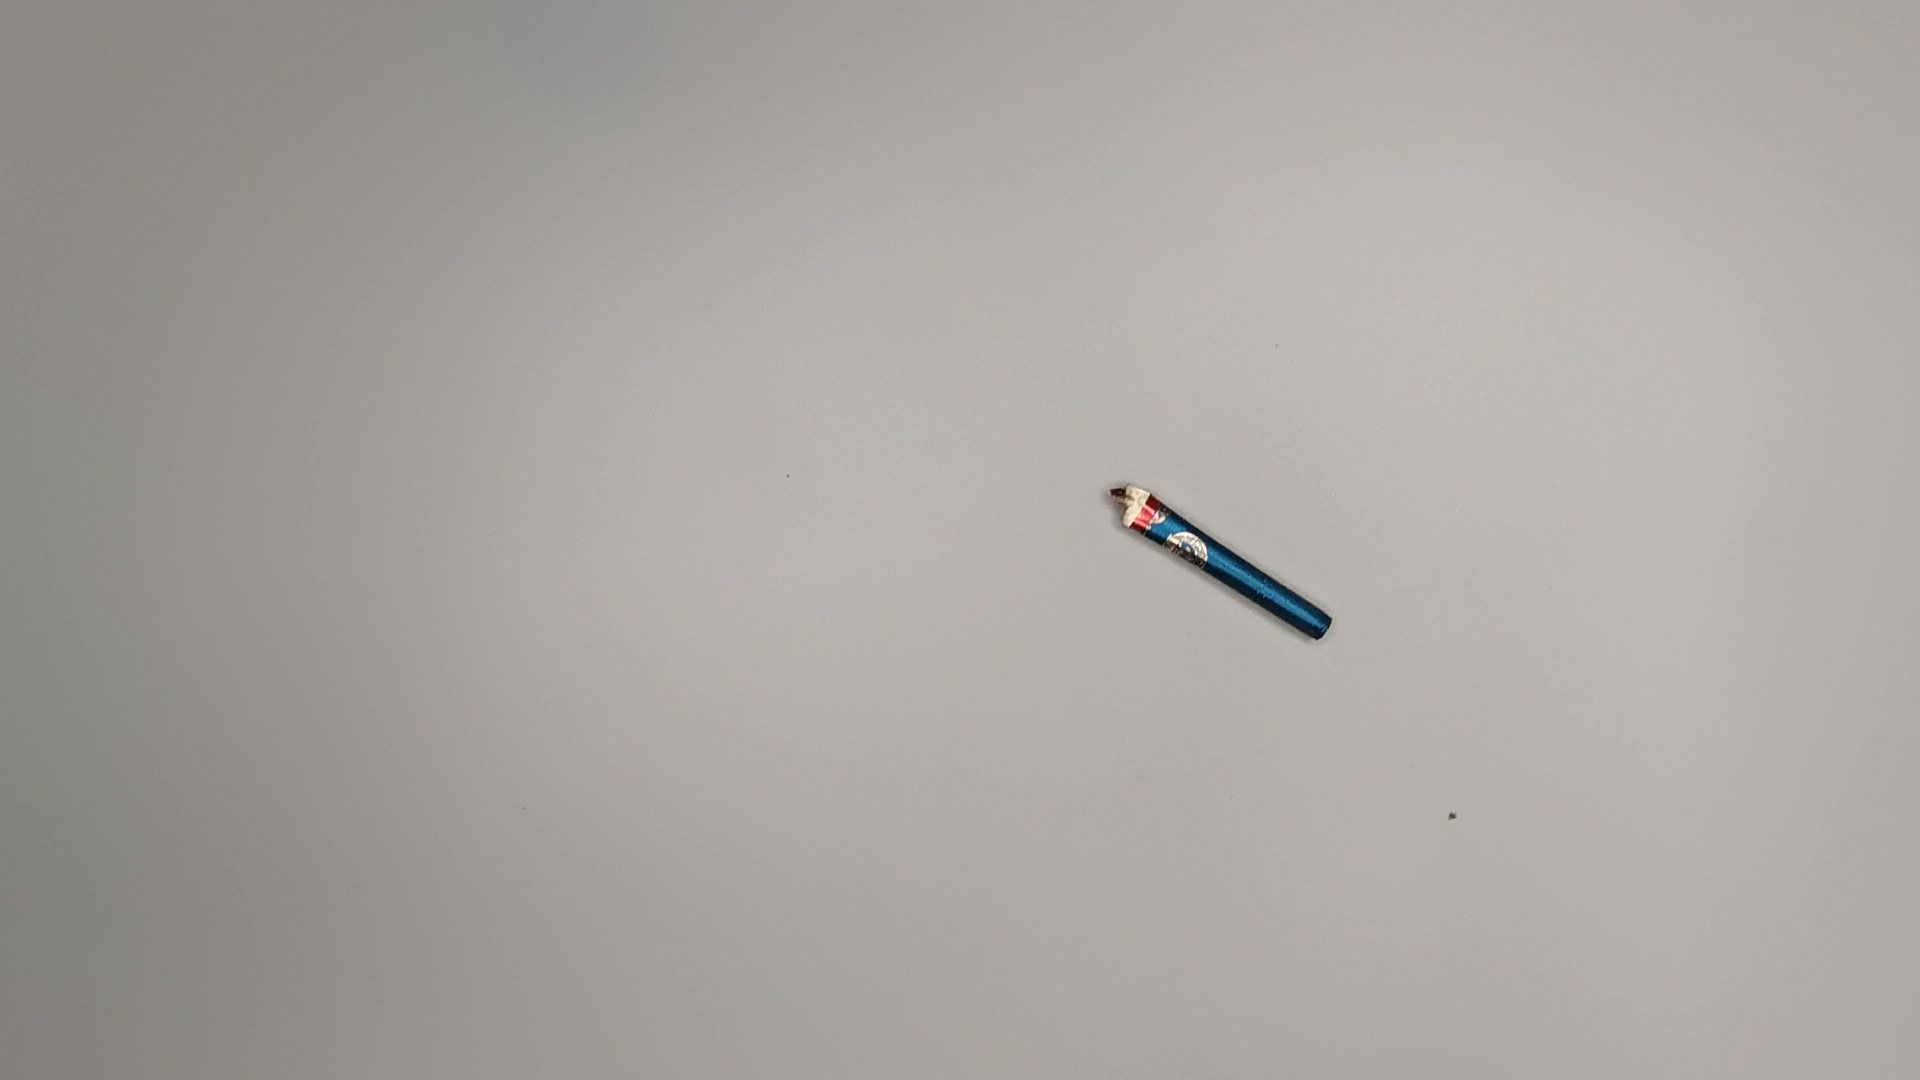cigarette: (1108, 477, 1338, 653)
